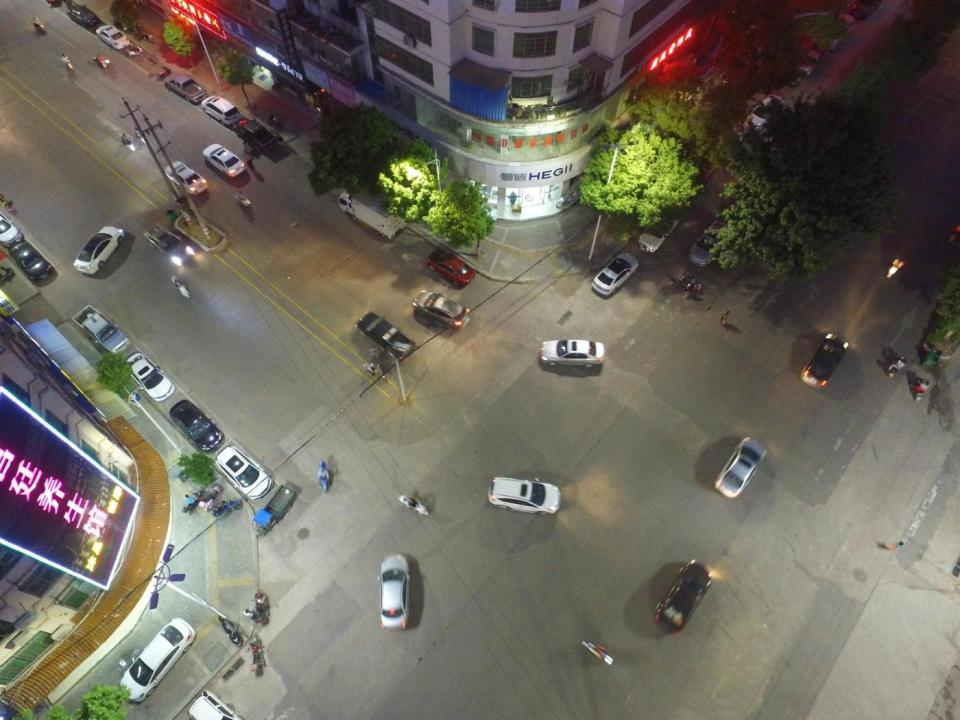car: (119, 617, 196, 703), (654, 558, 713, 636), (215, 444, 275, 502), (713, 437, 767, 498), (354, 312, 419, 362), (169, 398, 225, 452), (488, 476, 562, 514), (800, 332, 849, 388), (124, 352, 176, 403), (72, 226, 125, 275), (377, 552, 410, 630), (412, 290, 471, 330), (142, 223, 195, 267), (687, 219, 733, 267), (591, 252, 640, 297), (539, 336, 605, 368), (6, 238, 55, 281), (426, 249, 476, 288), (636, 212, 681, 254), (741, 94, 786, 136), (187, 690, 245, 720), (163, 160, 209, 195), (202, 144, 247, 178), (201, 94, 243, 126), (95, 24, 131, 50), (66, 3, 101, 29), (0, 211, 24, 248), (850, 0, 881, 21)
truck: (335, 182, 408, 240), (72, 304, 132, 356), (233, 116, 279, 154), (166, 72, 207, 103)
van: (820, 12, 854, 52), (796, 48, 822, 78)
